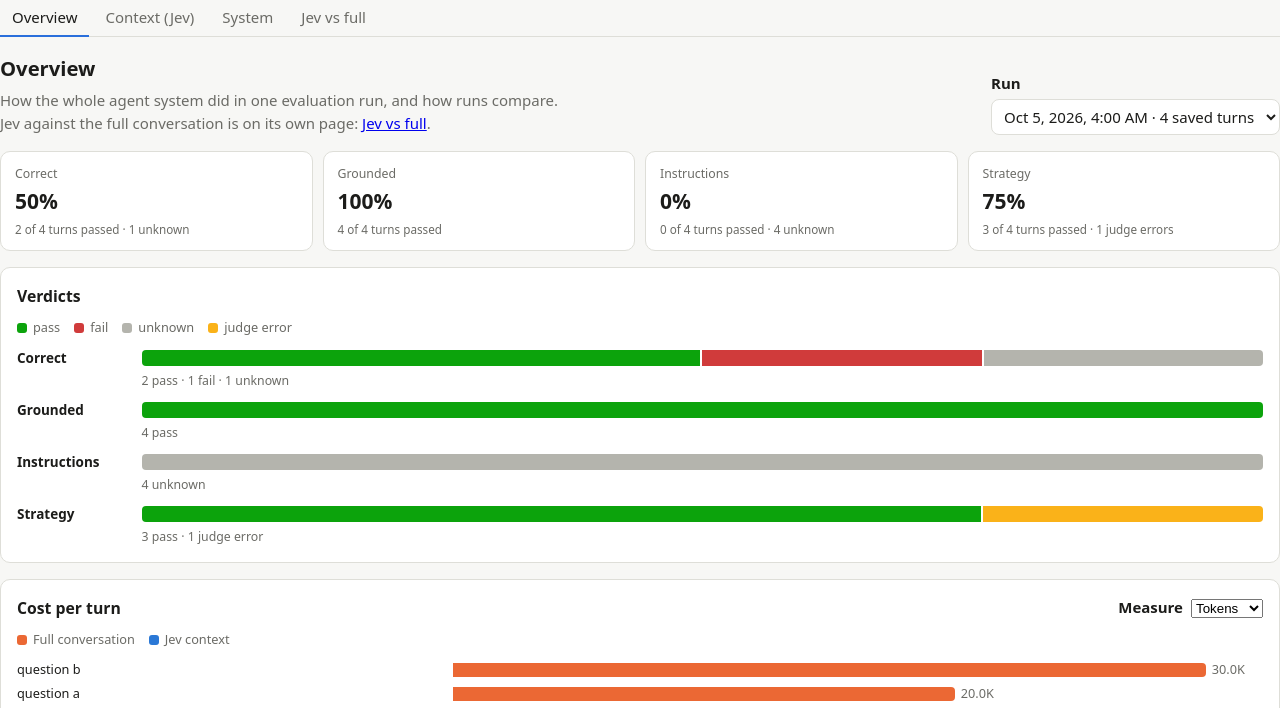
Test: Overview page › ranks turns by the chosen measure
Select "Runtime" in the dropdown labelled "Measure": (1227, 608) [1191, 599, 1263, 618]
(page scrolled)
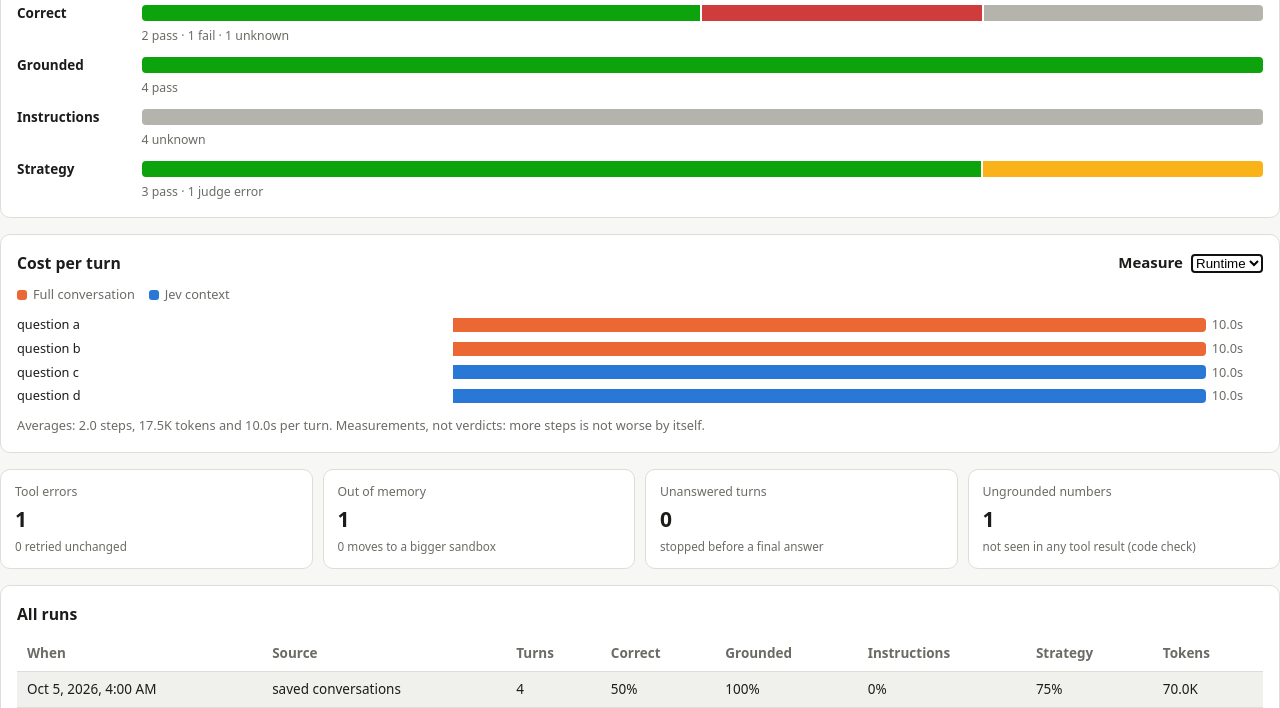
Expected: the list named "Runtime per turn" is shown, [17, 315, 1263, 406]
